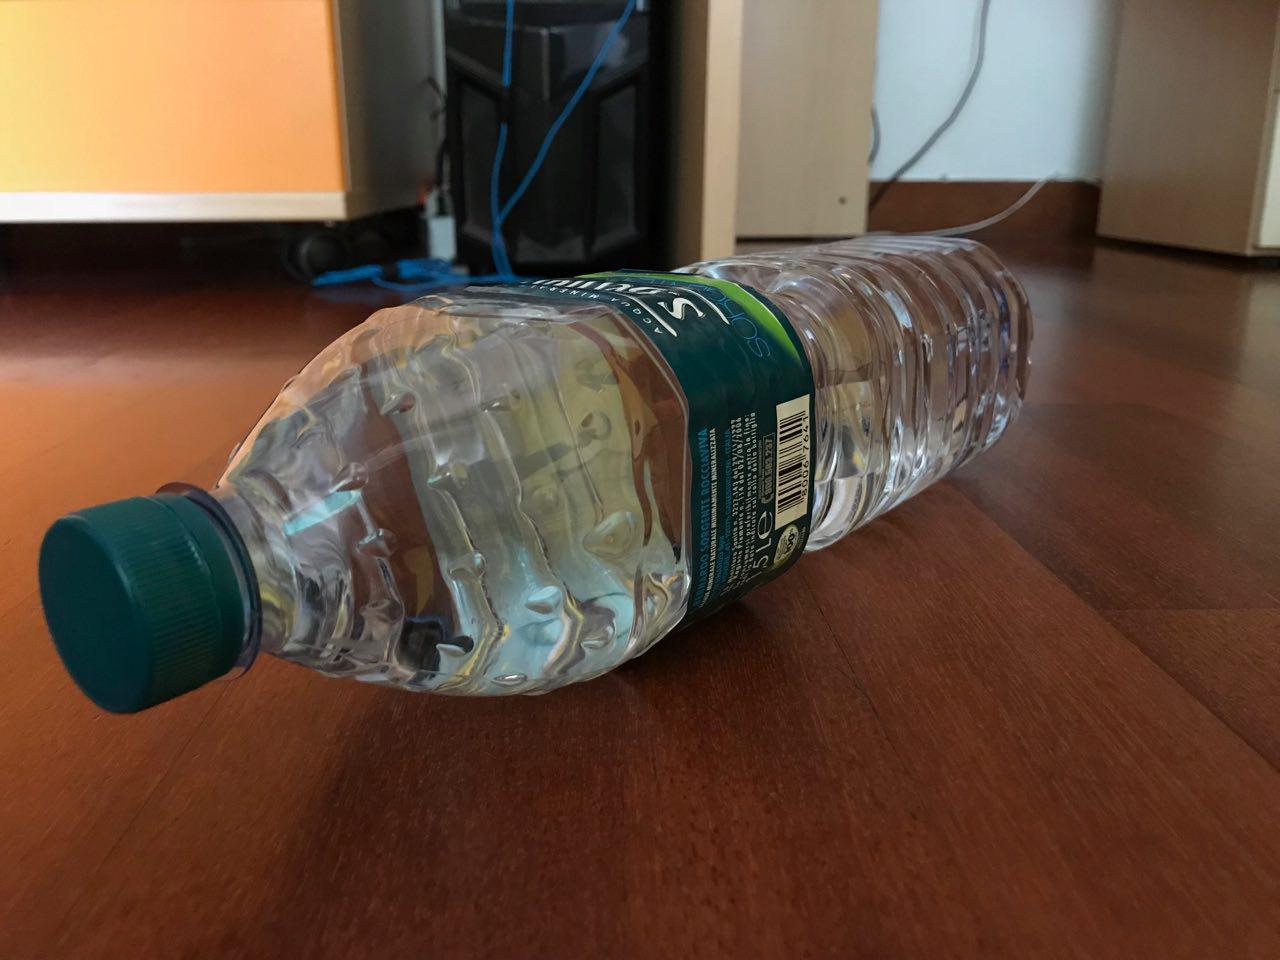san_bernardo: (35, 230, 1036, 718)
